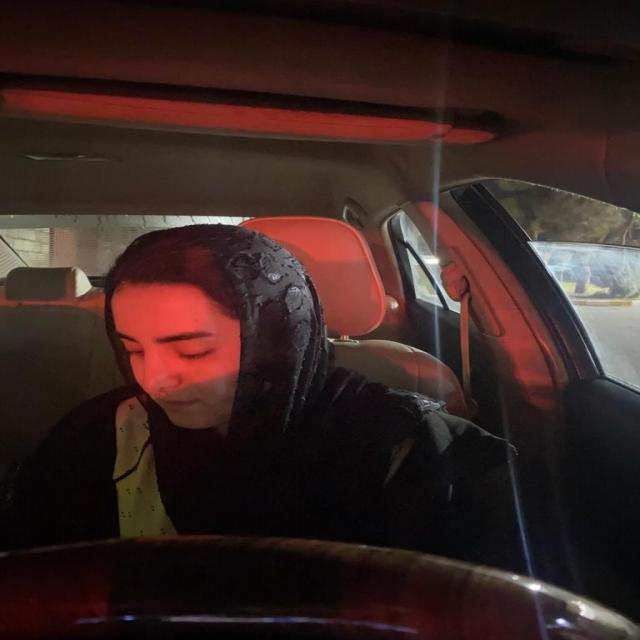drowsy: (111, 250, 320, 430)
